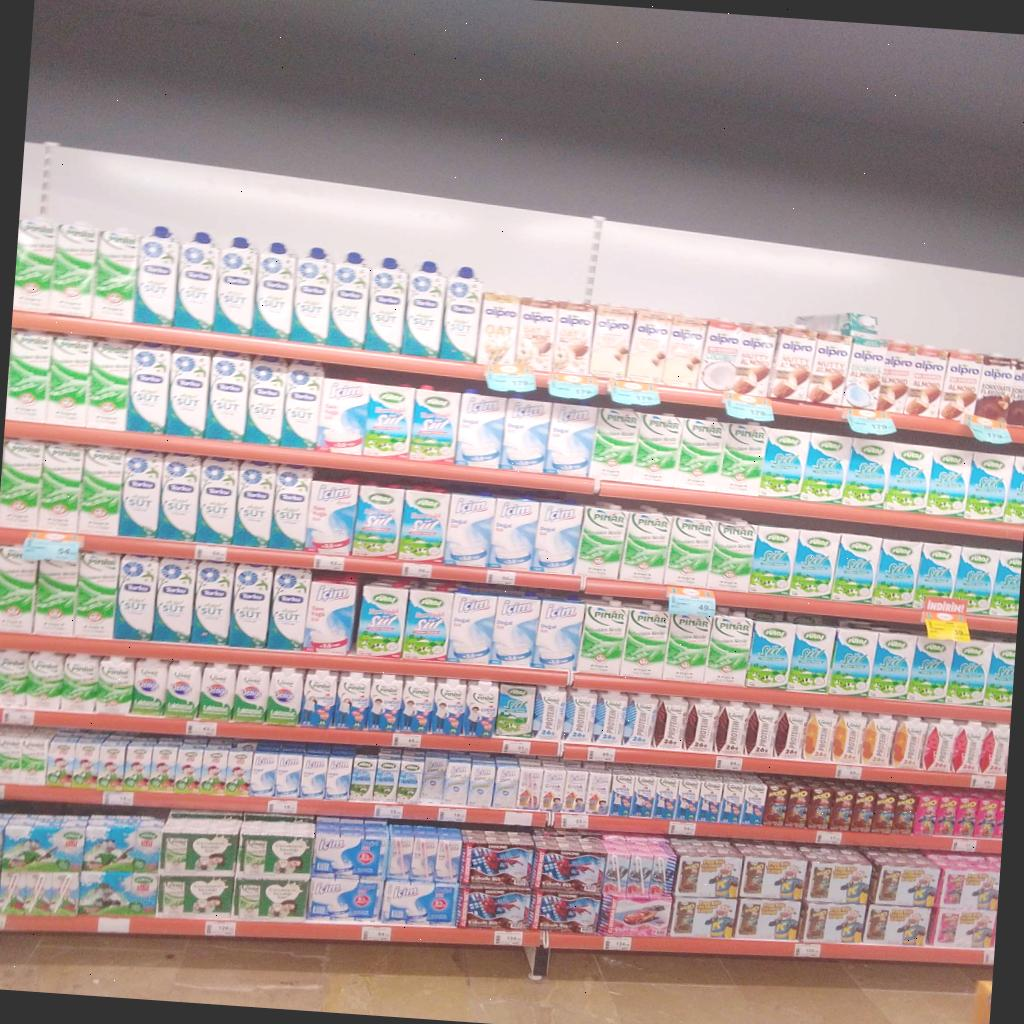price_tag: (923, 596, 970, 642), (22, 532, 82, 562), (724, 392, 773, 422), (669, 587, 715, 618), (964, 414, 1011, 444), (486, 364, 536, 392), (609, 379, 660, 406), (549, 373, 599, 400), (845, 409, 896, 435), (194, 543, 228, 562), (2, 708, 35, 726), (314, 553, 345, 571), (97, 917, 131, 933), (186, 721, 217, 737), (102, 791, 133, 807), (205, 921, 236, 937), (494, 930, 523, 947), (267, 800, 298, 815), (560, 813, 589, 829), (402, 563, 432, 578), (486, 570, 516, 585), (361, 926, 391, 941), (503, 811, 532, 826), (589, 746, 616, 762), (393, 733, 421, 748), (375, 805, 403, 820), (438, 807, 466, 822), (794, 943, 820, 959), (502, 740, 531, 754), (835, 765, 862, 780), (603, 937, 631, 951), (669, 822, 696, 836), (816, 830, 841, 845), (971, 775, 996, 789), (717, 756, 742, 770), (952, 839, 976, 852), (982, 948, 994, 966), (0, 914, 7, 930), (0, 784, 5, 800)
product: (160, 814, 242, 875), (0, 815, 85, 873), (237, 816, 314, 878), (600, 835, 677, 897), (381, 825, 461, 884), (867, 849, 943, 910), (82, 816, 163, 872), (134, 226, 179, 326), (313, 819, 388, 879), (51, 223, 98, 318), (927, 853, 1001, 913), (252, 242, 297, 340), (533, 833, 605, 894), (5, 330, 52, 423), (671, 839, 742, 900), (174, 232, 218, 330), (92, 231, 139, 322), (86, 340, 133, 431), (213, 238, 257, 335), (327, 252, 371, 349), (461, 831, 534, 889), (13, 217, 57, 313), (738, 843, 809, 902), (438, 267, 482, 362), (291, 247, 334, 344), (365, 257, 408, 354), (802, 847, 871, 907), (47, 337, 93, 426), (530, 598, 586, 671), (126, 344, 171, 434), (316, 379, 370, 454), (38, 444, 84, 532), (456, 389, 507, 468), (575, 505, 629, 579), (113, 555, 160, 640), (501, 397, 554, 472), (304, 579, 357, 654), (355, 584, 408, 659), (205, 353, 250, 441), (0, 439, 44, 529), (78, 448, 123, 536), (403, 261, 444, 357), (119, 451, 163, 539), (75, 553, 120, 639), (305, 482, 358, 555), (351, 485, 404, 558), (397, 490, 450, 563), (488, 497, 540, 571), (166, 349, 209, 438), (409, 388, 460, 463), (444, 493, 495, 568), (78, 870, 159, 917), (545, 403, 597, 476), (269, 465, 313, 551), (589, 408, 640, 482), (577, 603, 629, 675), (379, 878, 457, 926), (619, 512, 671, 584), (245, 358, 288, 445), (0, 871, 79, 918), (489, 596, 542, 666), (402, 589, 454, 660), (158, 455, 201, 540), (196, 459, 239, 544), (282, 361, 324, 448), (447, 592, 497, 665), (631, 413, 680, 487), (675, 418, 724, 492), (234, 461, 276, 547), (230, 566, 274, 648), (363, 385, 413, 457), (769, 326, 817, 401), (664, 516, 714, 588), (157, 873, 235, 919), (153, 559, 196, 642), (717, 423, 766, 495), (192, 563, 235, 645), (830, 534, 881, 603), (268, 568, 311, 649), (703, 615, 752, 686), (662, 315, 709, 389), (759, 430, 810, 498), (535, 502, 583, 574), (745, 621, 795, 689), (789, 530, 839, 598), (621, 608, 669, 678), (707, 521, 755, 591), (749, 525, 797, 595), (873, 538, 921, 608), (307, 876, 383, 920), (458, 886, 532, 931), (787, 624, 835, 693), (829, 628, 877, 697), (35, 560, 78, 637), (234, 876, 307, 921), (807, 332, 852, 405), (663, 615, 712, 682), (952, 545, 999, 614), (589, 306, 634, 378), (966, 453, 1013, 521), (888, 440, 930, 516), (0, 547, 37, 633), (627, 310, 671, 382), (732, 325, 776, 397), (843, 337, 886, 410), (912, 543, 960, 608), (848, 438, 890, 512), (600, 894, 672, 937), (700, 319, 742, 392), (907, 637, 954, 702), (551, 302, 594, 373), (903, 347, 947, 416), (869, 633, 915, 699), (804, 432, 846, 504), (939, 350, 982, 420), (927, 907, 997, 950), (515, 298, 556, 371), (477, 292, 519, 363), (930, 443, 969, 519), (946, 641, 992, 705), (530, 891, 600, 933), (798, 902, 866, 945), (863, 904, 931, 947), (670, 895, 736, 939), (974, 355, 1014, 421), (738, 899, 800, 941), (875, 342, 911, 411), (988, 549, 1022, 618), (60, 655, 100, 712), (26, 652, 65, 709), (300, 670, 338, 727), (647, 699, 689, 750), (335, 672, 371, 731), (984, 643, 1016, 709), (96, 657, 133, 714), (496, 684, 535, 737), (267, 668, 303, 725), (199, 664, 235, 720), (234, 666, 270, 722), (716, 702, 753, 756), (400, 677, 435, 733), (368, 675, 402, 732), (166, 663, 201, 718), (922, 720, 959, 772), (861, 715, 897, 768), (683, 700, 719, 752), (142, 739, 177, 792), (433, 679, 466, 735), (951, 722, 987, 773), (745, 705, 780, 757), (18, 729, 51, 784), (132, 661, 166, 714), (466, 681, 498, 737), (775, 707, 808, 761), (563, 690, 597, 742), (891, 718, 925, 769), (533, 687, 565, 741), (594, 693, 627, 745), (625, 696, 658, 748), (171, 743, 204, 794), (834, 713, 867, 764), (44, 733, 75, 787), (123, 739, 155, 790), (0, 652, 30, 706), (222, 747, 255, 796), (804, 711, 836, 761), (97, 738, 127, 791), (249, 744, 279, 796), (73, 736, 102, 788), (199, 744, 229, 794), (980, 725, 1010, 775), (326, 747, 354, 800), (300, 748, 329, 799), (718, 777, 748, 825), (395, 754, 424, 803), (275, 747, 303, 797), (466, 760, 495, 807), (515, 763, 543, 811), (1004, 457, 1024, 524), (492, 759, 519, 808), (562, 765, 589, 813), (441, 762, 471, 805), (421, 753, 447, 802), (912, 791, 940, 836), (0, 729, 23, 783), (349, 755, 376, 801), (373, 755, 400, 801), (828, 784, 854, 831), (540, 764, 565, 812), (652, 774, 678, 820), (1007, 359, 1024, 428), (696, 777, 722, 822), (849, 789, 876, 832), (971, 795, 998, 838), (586, 768, 611, 814), (784, 783, 809, 828), (870, 790, 896, 833), (952, 796, 979, 837), (609, 773, 634, 817), (674, 777, 699, 821), (807, 787, 833, 829), (631, 775, 656, 818), (741, 782, 766, 825), (763, 783, 788, 826), (893, 791, 916, 834), (935, 793, 957, 836), (128, 745, 137, 780)
